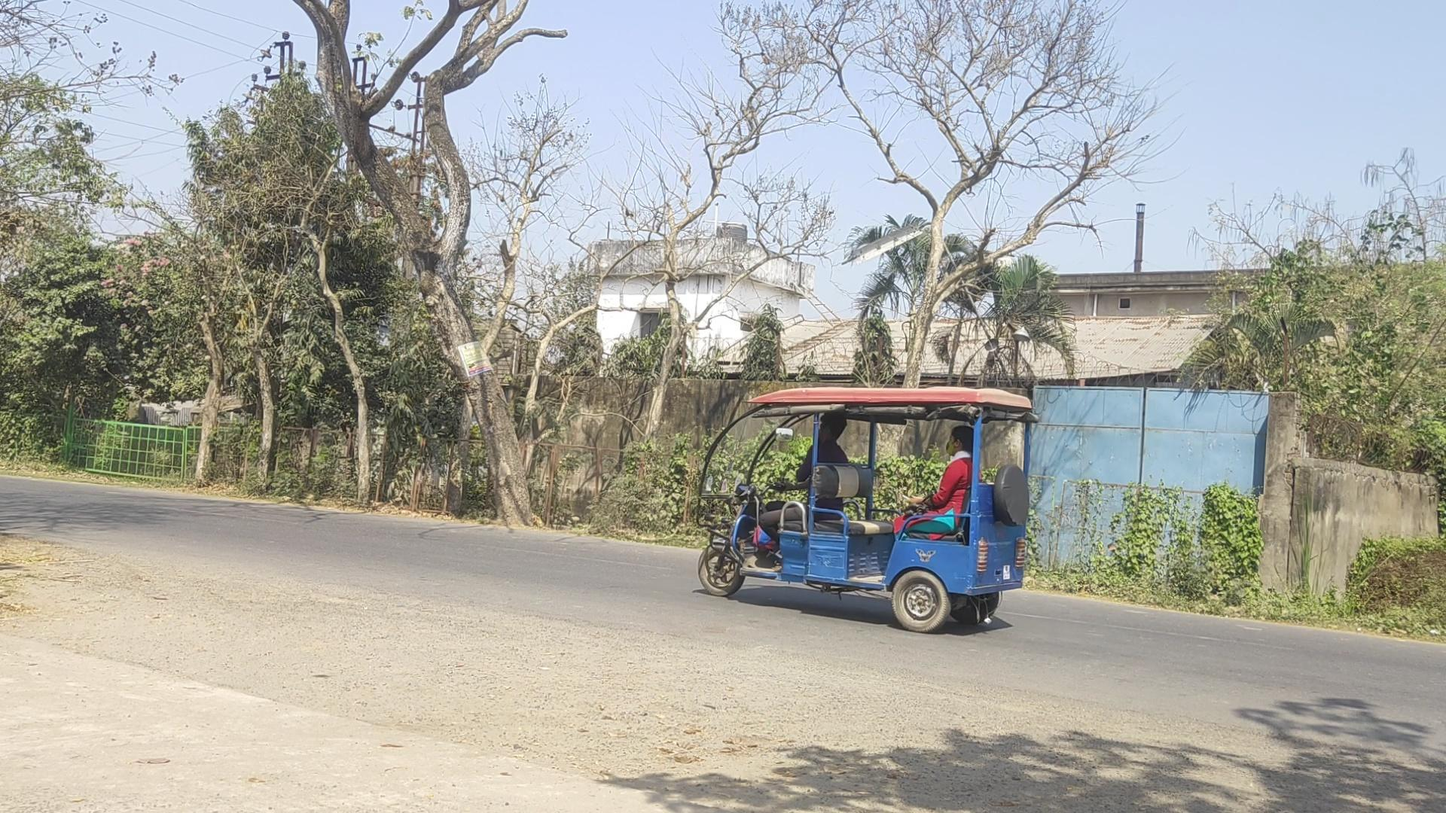Auto: (697, 386, 1038, 635)
